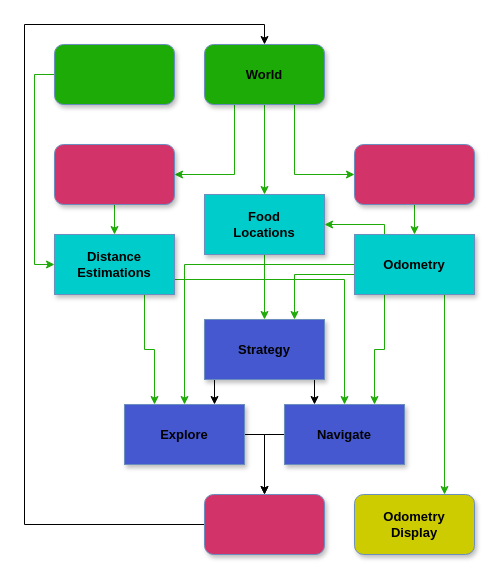
This 498x579 diagram has some shape labels left out. The shapes that lost their labels are listed below. From the top down, each one's centre as x and y in pixels, then its label:
At point 115,76: "Calibration Data".
At point 115,176: "IR Sensors".
At point 415,176: "Wheel Encoders".
At point 265,526: "Wheel Actuators".
